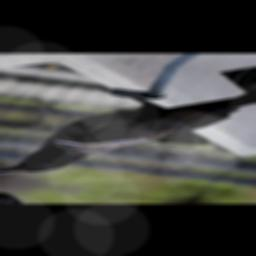Crow: (0, 61, 256, 196)
